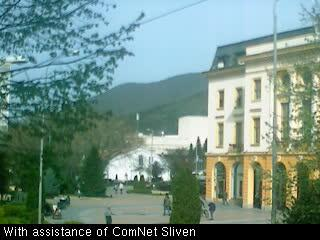person: (163, 193, 172, 216), (208, 202, 217, 222), (222, 189, 230, 208), (105, 207, 113, 224), (76, 183, 82, 200), (114, 182, 119, 195), (119, 182, 123, 195)
